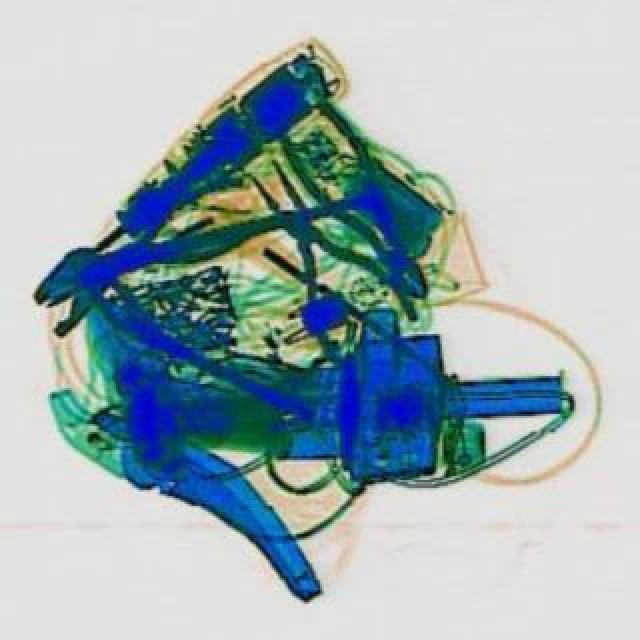wrench: (212, 138, 428, 370), (264, 92, 456, 312), (62, 166, 270, 308)
